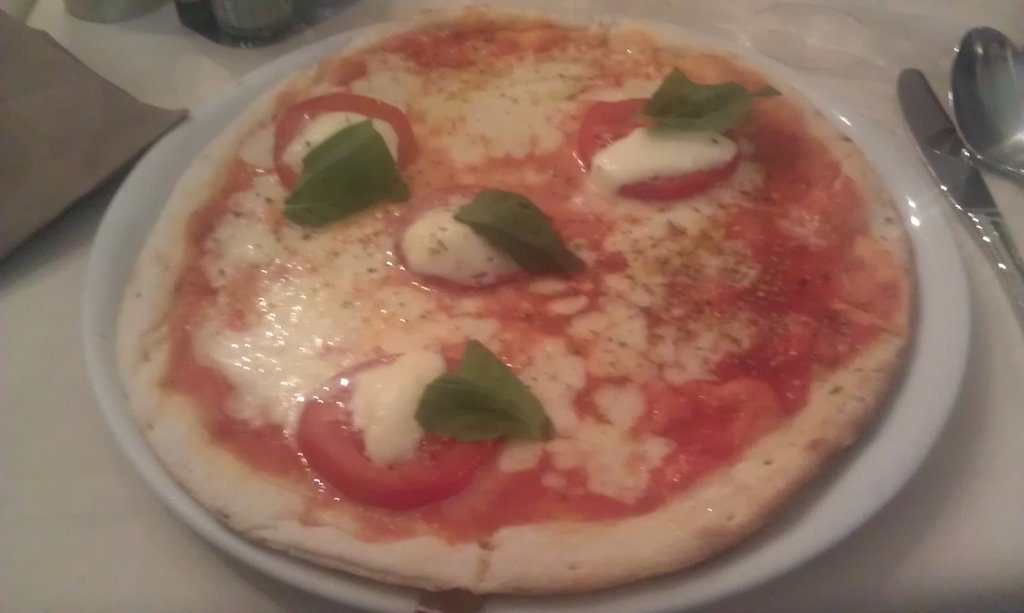Pizza: (113, 8, 906, 599)
